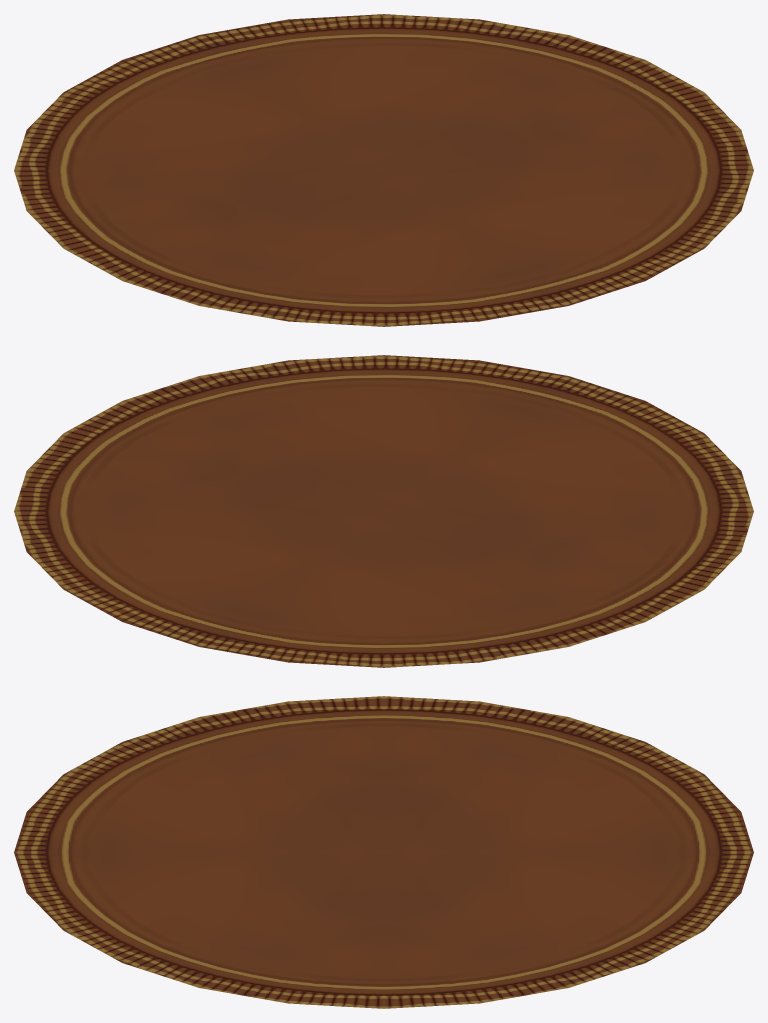
File: P_Rug_A.FBX
3 renders of one model, top to bottom at view 1: azimuth 30°, elevation 25°; view 2: azimuth 150°, elevation 25°; view 3: azimuth 270°, elevation 25°, orthographic.
Visible parts, largest first — view 1: P_Rug_A; view 2: P_Rug_A; view 3: P_Rug_A.
Part boxes in pixels (x1,y1,x2,y2): P_Rug_A: (14, 14, 753, 326); P_Rug_A: (14, 355, 753, 667); P_Rug_A: (14, 696, 753, 1008).
Size of the model in its own units: 278 by 3.64e-05 by 278.
1 material, 1 textured.
